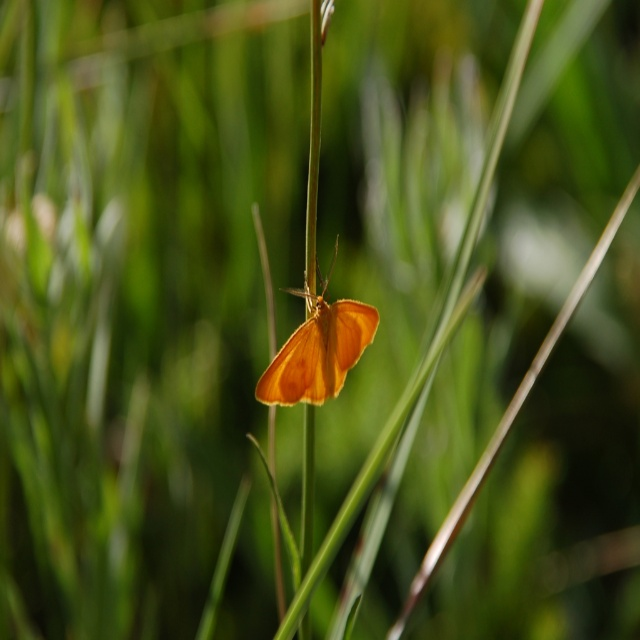Butterfly: (253, 235, 380, 406)
